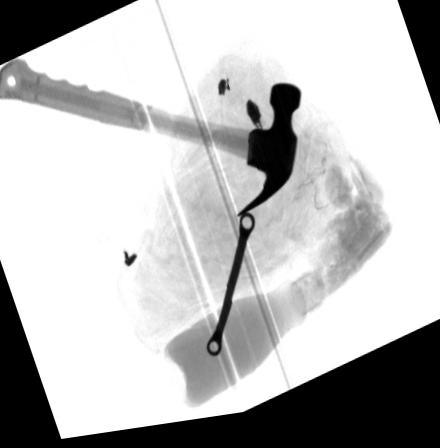Hammer: (0, 59, 302, 220)
Wrench: (206, 216, 255, 362)
